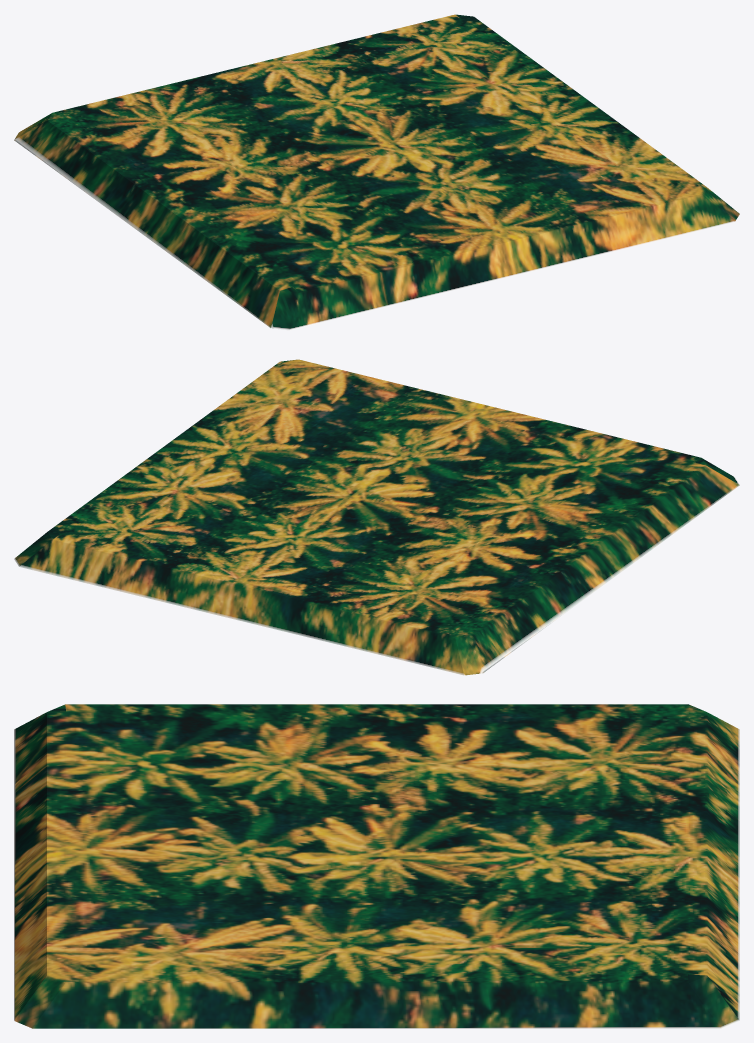
Rendered from Plantation.glb.
3 views of the same model, one above another, from view 1: azimuth 30°, elevation 25°; view 2: azimuth 150°, elevation 25°; view 3: azimuth 270°, elevation 25° (orthographic). The views are drawn at different scales.
Visible parts, largest first — view 1: Plantation; view 2: Plantation; view 3: Plantation.
Boxes of the visible parts, box(x1,y1,x2,y2) form: Plantation: box(14, 14, 739, 330); Plantation: box(14, 359, 739, 675); Plantation: box(14, 704, 739, 1028).
Bounding box in the file's own units: 2 × 0.1 × 2.
Materials: 1 (1 with a texture image).
